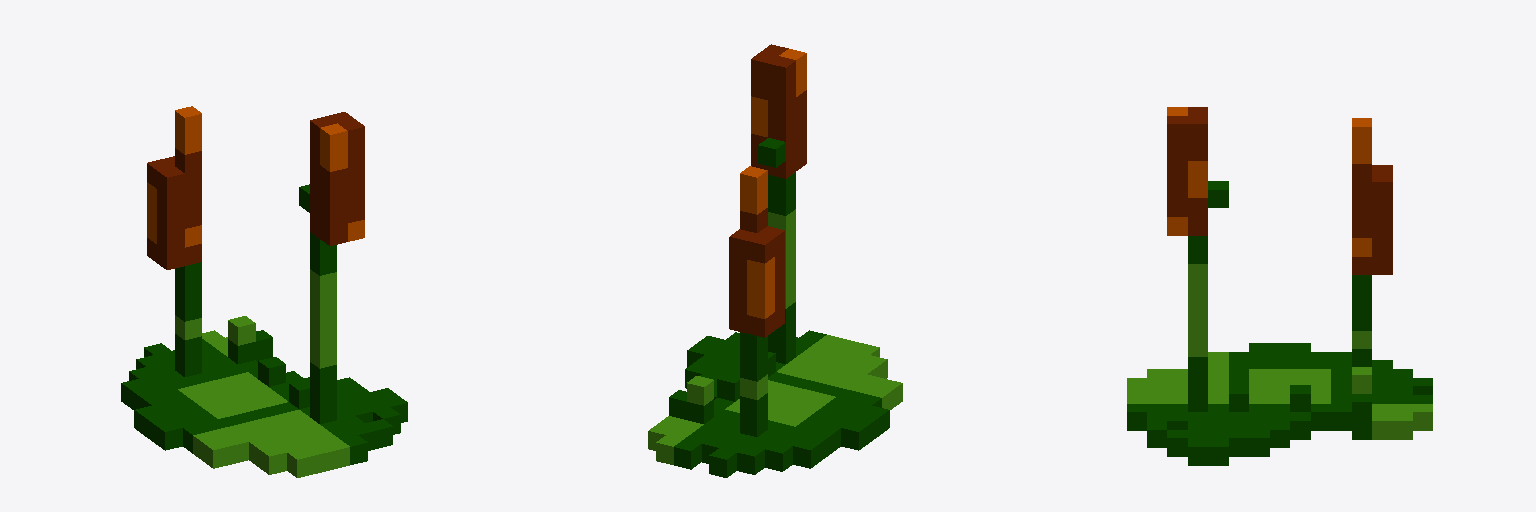
3 views of the same model, side by side, from view 1: azimuth 30°, elevation 25°; view 2: azimuth 150°, elevation 25°; view 3: azimuth 270°, elevation 25° (orthographic).
Parts seen in each view (by area): view 1: object 1; view 2: object 1; view 3: object 1.
Boxes of the visible parts, <box> form: object 1: <box>121,106,407,477</box>; object 1: <box>648,44,902,477</box>; object 1: <box>1127,107,1432,465</box>.
Bounding box in the file's own units: 1.2 × 1.7 × 1.5.
Materials: 1 (1 with a texture image).